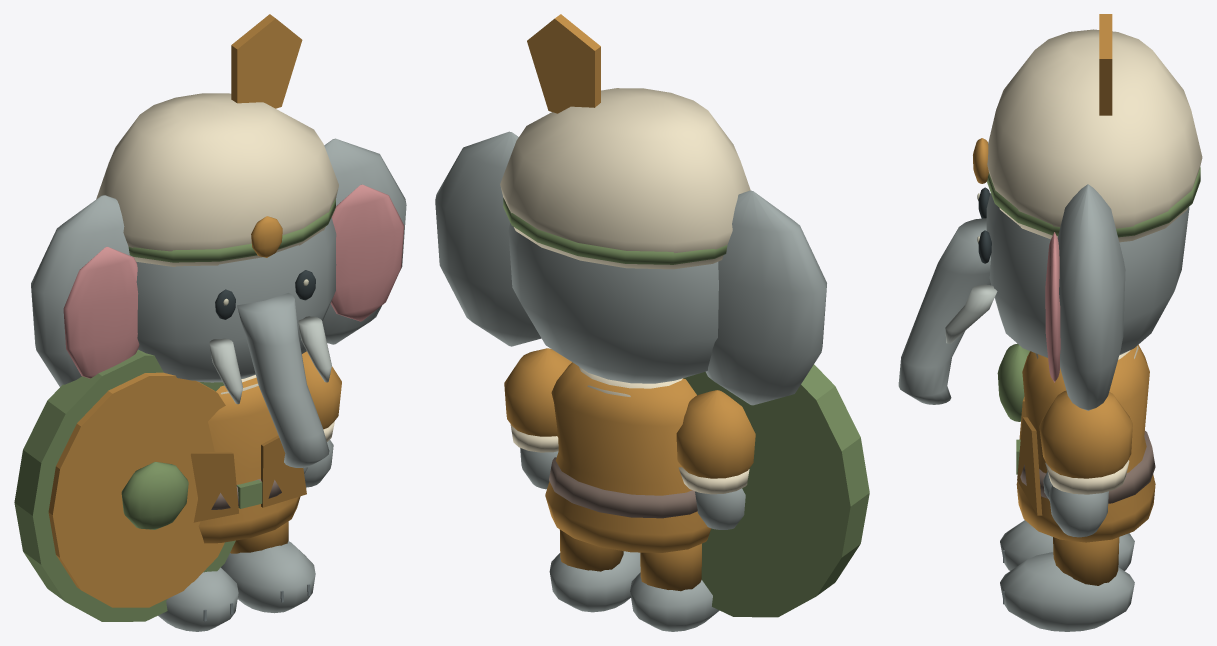
File: guard.glb
3 views of the same model, side by side, from view 1: azimuth 30°, elevation 25°; view 2: azimuth 150°, elevation 25°; view 3: azimuth 270°, elevation 25° (orthographic). The views are drawn at different scales.
Visible parts, largest first — view 1: Layered cloth turban, Regional shield face, Animal cheek head, Shield gold rim, Curved elephant trunk, Elephant broad ear, Elephant ear lining, Elephant ear lining.001, Short folded tunic, Turban fan, Soft animal paw.001, Elephant broad ear.001 (+12 smaller); view 2: Layered cloth turban, Shield gold rim, Animal cheek head, Short folded tunic, Elephant broad ear, Elephant broad ear.001, Puff sleeve, Turban fan, Puff sleeve.001, Soft animal paw.001, Broad leather belt, Soft animal paw (+8 smaller); view 3: Layered cloth turban, Animal cheek head, Elephant broad ear.001, Short folded tunic, Curved elephant trunk, Soft animal paw.001, Puff sleeve.001, Stubby trouser.001, Little mitten.001, Soft animal paw, Turban wrapping, Elephant ear lining.001 (+7 smaller).
Boxes of the visible parts, x1,y1,x2,y2 form: Layered cloth turban: [96, 93, 338, 266]; Regional shield face: [48, 372, 225, 607]; Animal cheek head: [136, 218, 336, 382]; Shield gold rim: [14, 350, 235, 621]; Curved elephant trunk: [237, 293, 329, 467]; Elephant broad ear: [31, 195, 138, 386]; Elephant ear lining: [63, 246, 139, 378]; Elephant ear lining.001: [330, 184, 404, 321]; Short folded tunic: [198, 377, 300, 543]; Turban fan: [231, 14, 302, 108]; Soft animal paw.001: [221, 541, 315, 613]; Elephant broad ear.001: [322, 138, 406, 344]; Layered cloth turban: [500, 88, 750, 269]; Shield gold rim: [683, 364, 869, 617]; Animal cheek head: [508, 223, 718, 383]; Short folded tunic: [545, 362, 711, 552]; Elephant broad ear: [705, 190, 826, 405]; Elephant broad ear.001: [435, 131, 541, 346]; Puff sleeve: [676, 390, 755, 478]; Turban fan: [527, 14, 600, 113]; Puff sleeve.001: [504, 348, 571, 436]; Soft animal paw.001: [549, 551, 640, 612]; Broad leather belt: [549, 457, 697, 518]; Soft animal paw: [630, 572, 719, 631]; Layered cloth turban: [987, 29, 1202, 242]; Animal cheek head: [986, 193, 1189, 357]; Elephant broad ear.001: [1057, 184, 1125, 410]; Short folded tunic: [1016, 345, 1155, 542]; Curved elephant trunk: [898, 218, 991, 404]; Soft animal paw.001: [1000, 552, 1134, 631]; Puff sleeve.001: [1039, 390, 1132, 478]; Stubby trouser.001: [1053, 537, 1119, 585]; Little mitten.001: [1049, 485, 1108, 537]; Soft animal paw: [1000, 520, 1134, 570]; Turban wrapping: [987, 167, 1200, 237]; Elephant ear lining.001: [1045, 232, 1060, 382].
Size of the model in its own units: 1.33 by 1.84 by 0.81.
